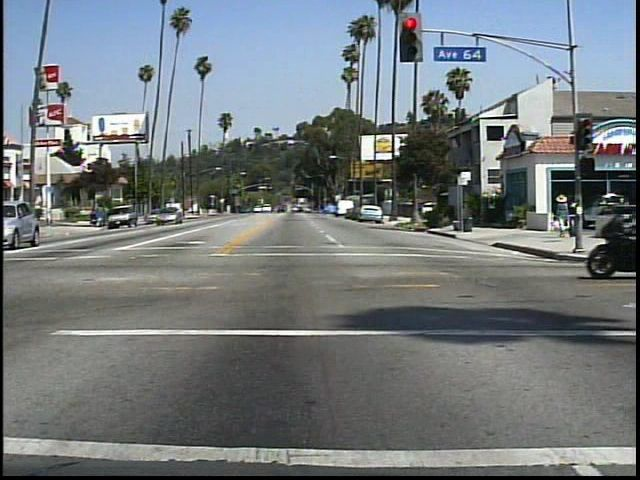person: (557, 190, 576, 243)
